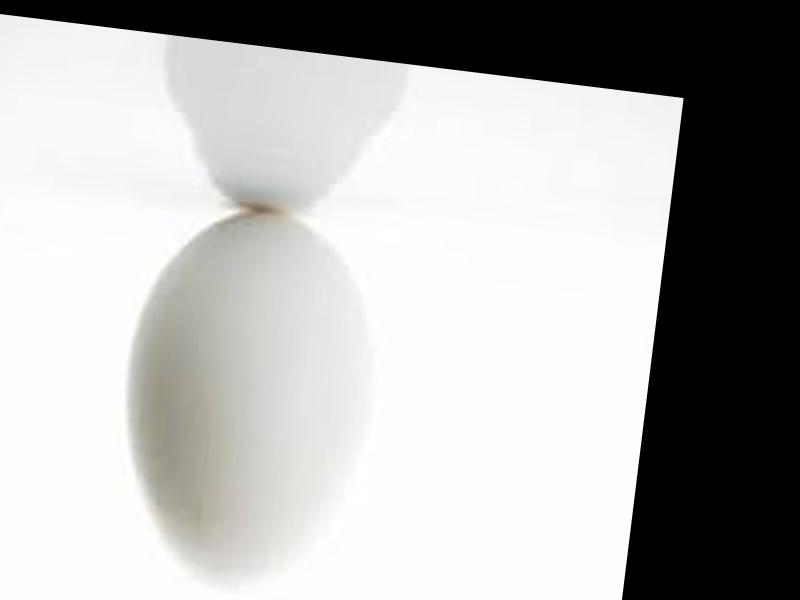Eggs: (104, 197, 384, 600)
